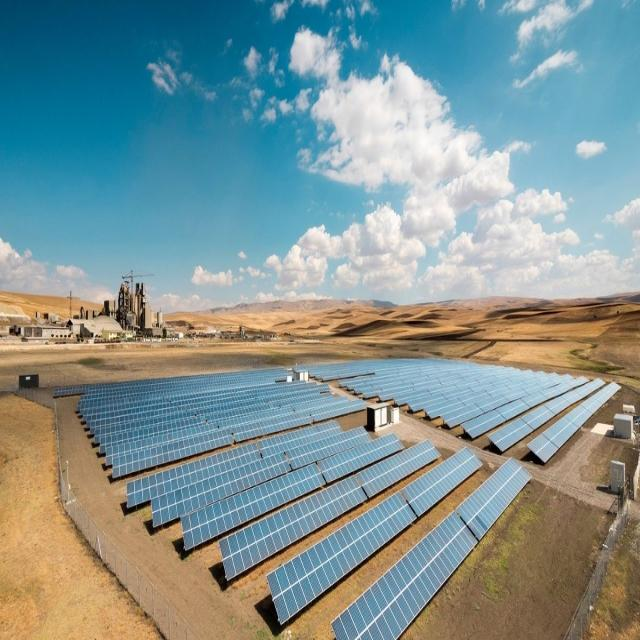clean-solar-panel: (266, 447, 481, 624), (331, 460, 531, 640), (219, 440, 439, 580)
